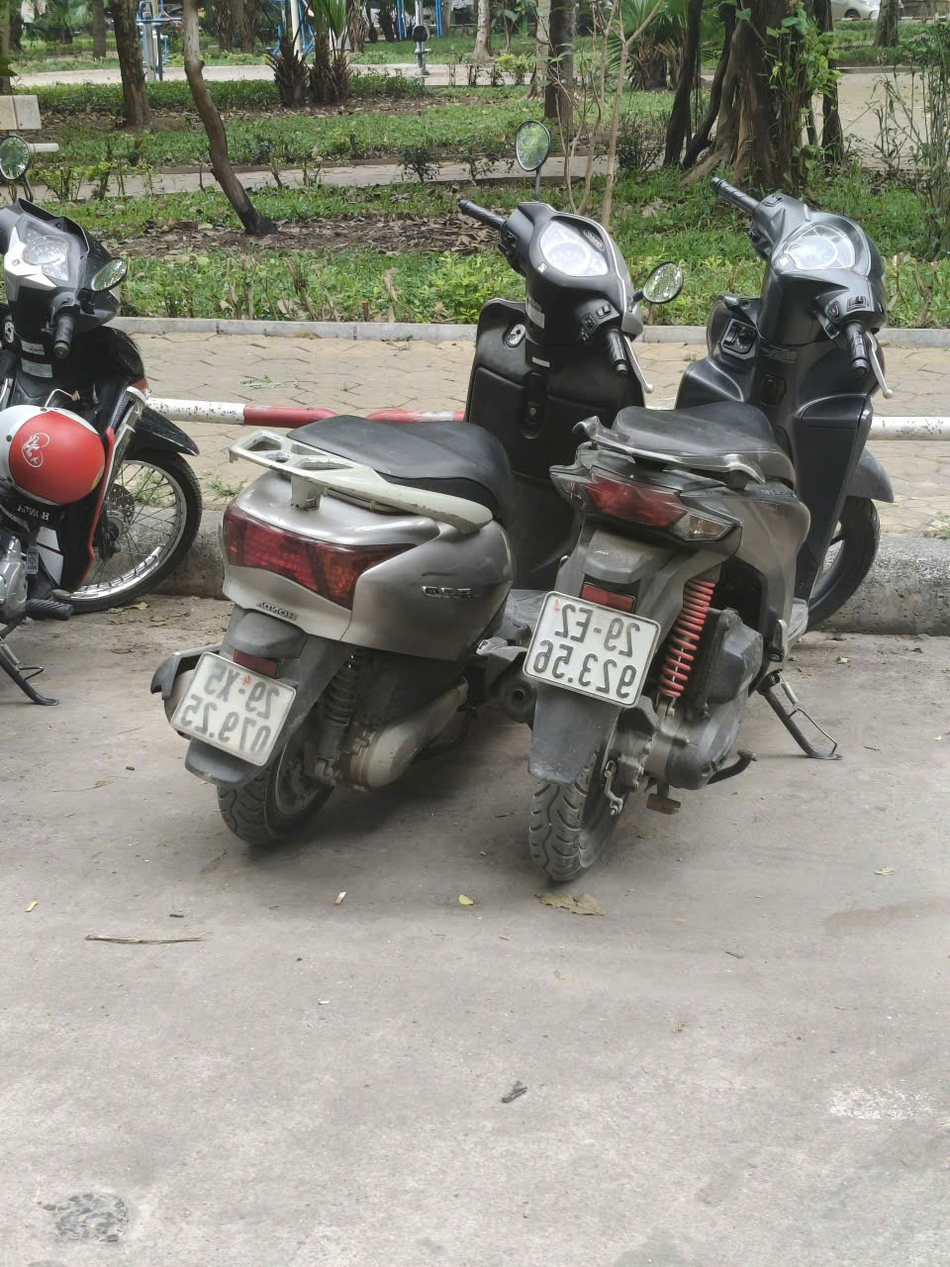plate: (595, 453, 687, 484)
